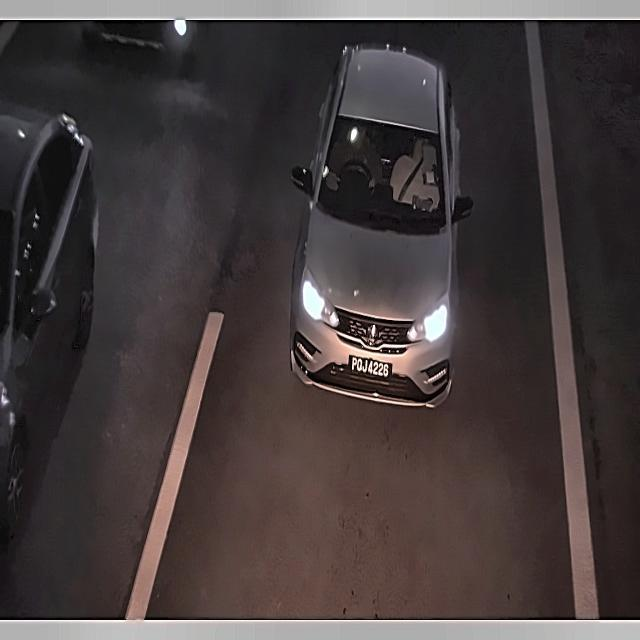car: (344, 351, 397, 381)
